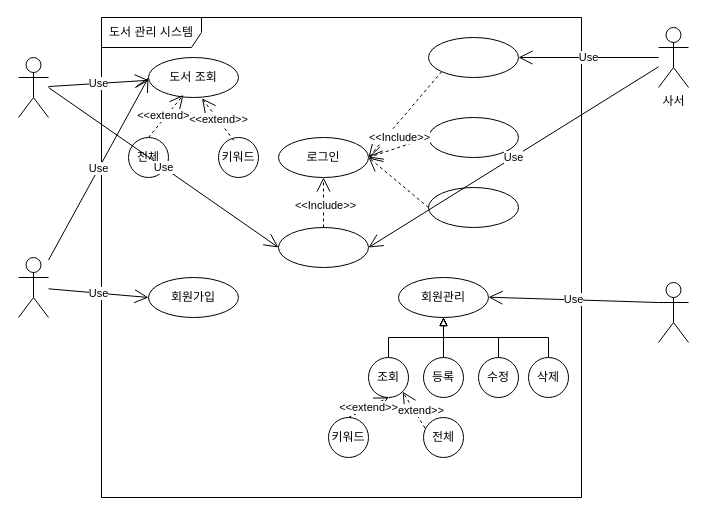
The diagram is 707 pixels wide and 515 high, and some of its shapes have lost their labels. The box of each missing label's shape, as (x1, y1, x2, y2) in pixels:
관리자: (658, 282, 688, 342)
나의정보조회: (278, 226, 368, 268)
도서 등록: (428, 36, 518, 78)
도서삭제: (428, 186, 518, 228)
도서수정: (428, 116, 518, 158)
비회원: (18, 256, 48, 318)
회원: (18, 56, 48, 118)
